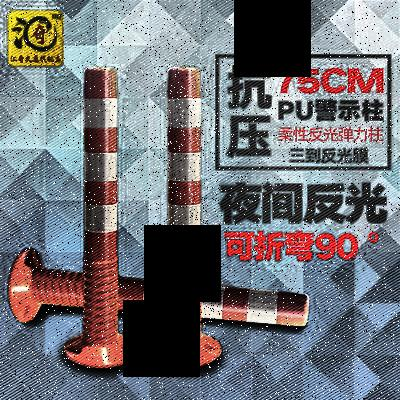bench: (69, 62, 141, 363), (150, 64, 221, 368)
